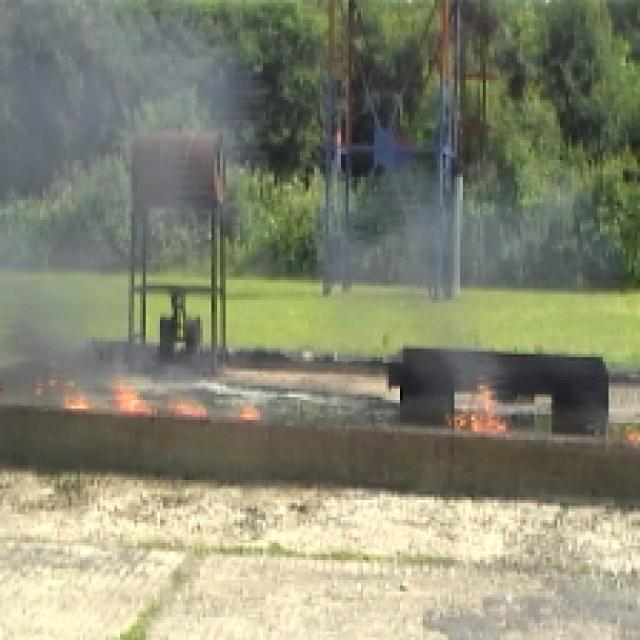smoke: (0, 42, 135, 232)
